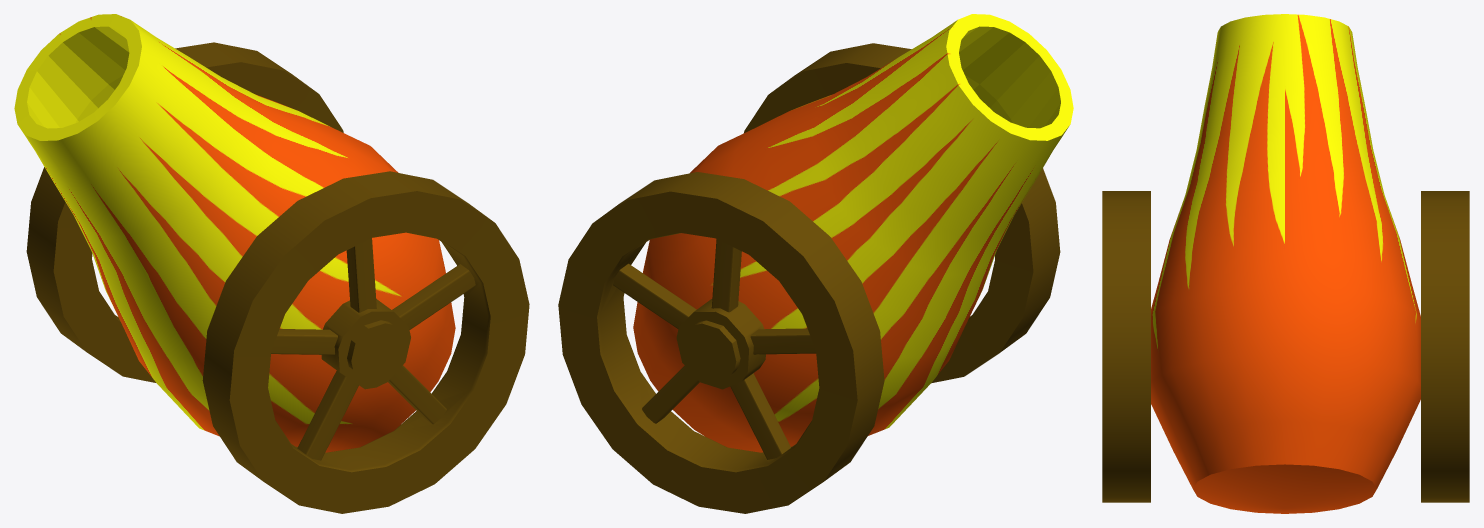
The model's file is dapao.fbx.
3 views of the same model, side by side, from view 1: azimuth 30°, elevation 25°; view 2: azimuth 150°, elevation 25°; view 3: azimuth 270°, elevation 25° (orthographic). The views are drawn at different scales.
Visible parts, largest first — view 1: pCylinder1, polySurface169, polySurface170; view 2: pCylinder1, polySurface170, polySurface169; view 3: pCylinder1, polySurface169, polySurface170.
Boxes of the visible parts, x1,y1,x2,y2 form: pCylinder1: (14,14,455,452); polySurface169: (202,171,529,513); polySurface170: (26,42,343,382); pCylinder1: (633,14,1073,452); polySurface170: (558,172,884,513); polySurface169: (744,43,1060,383); pCylinder1: (1151,14,1420,513); polySurface169: (1102,191,1150,502); polySurface170: (1421,191,1469,502).
Bounding box in the file's own units: 1.75 × 1.49 × 1.91.
2 materials, 1 textured.
